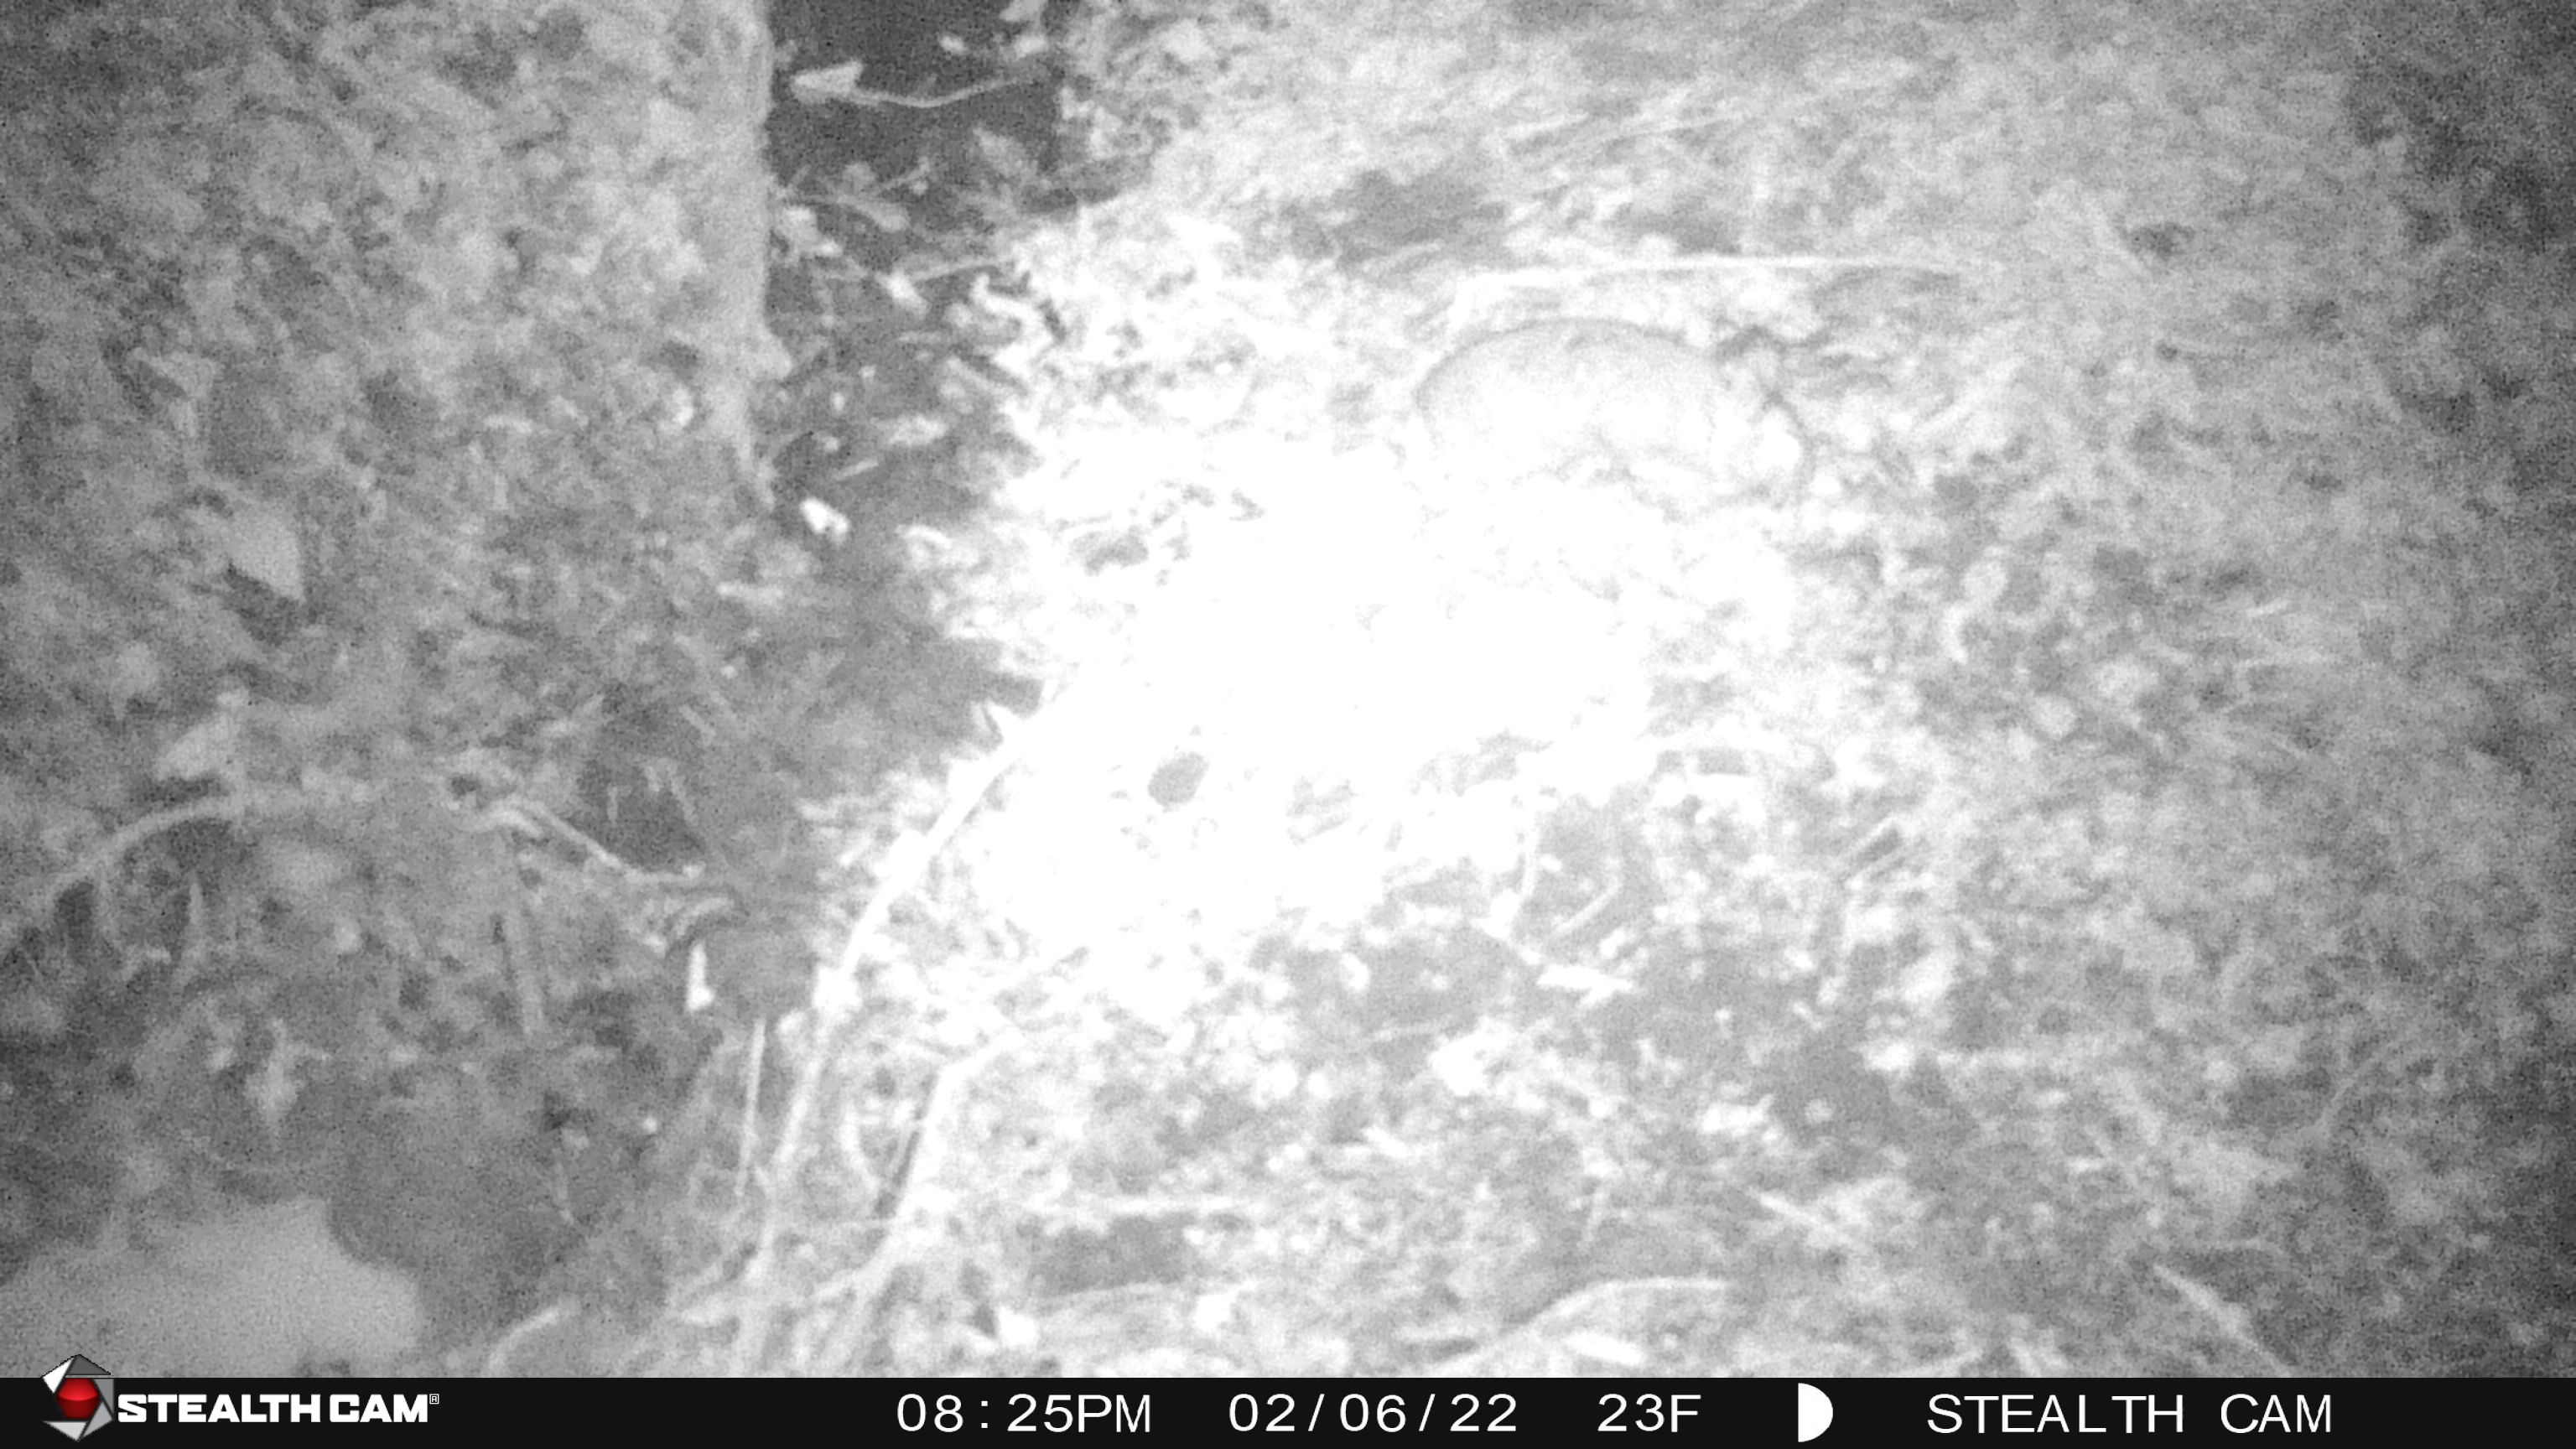Rabbit: (1414, 310, 1819, 495)
